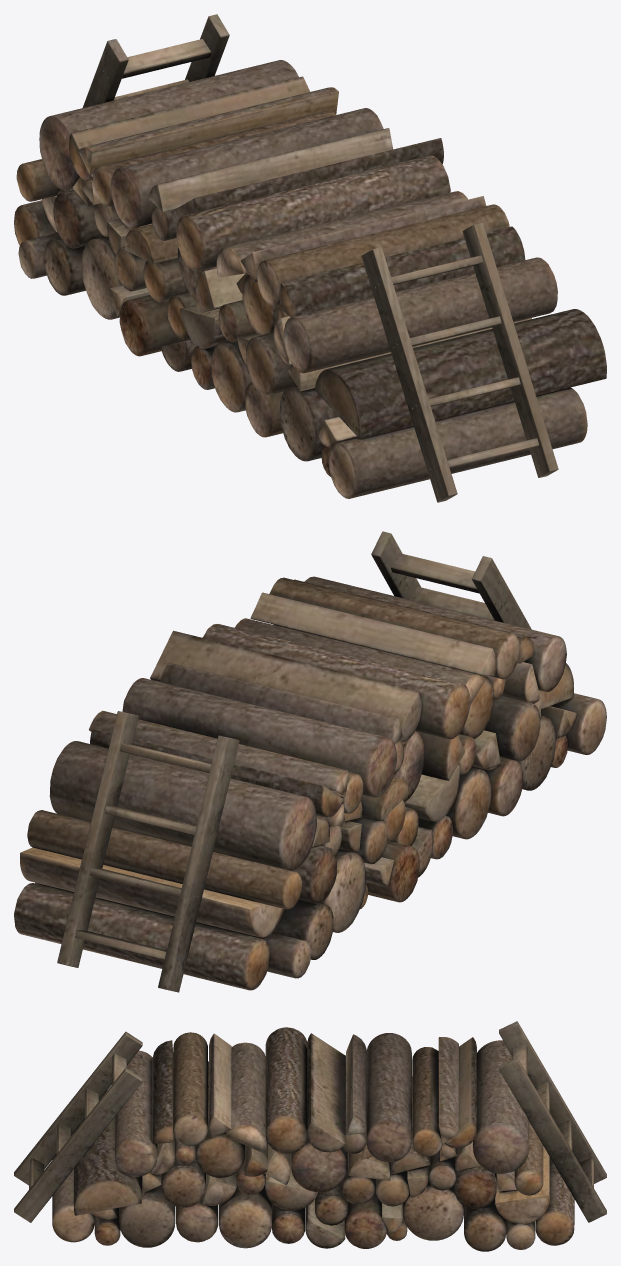
File: firewood.glb
3 views of the same model, one above another, from view 1: azimuth 30°, elevation 25°; view 2: azimuth 150°, elevation 25°; view 3: azimuth 270°, elevation 25° (orthographic). The views are drawn at different scales.
Parts seen in each view (by area): view 1: Object_3, Object_2, Object_5, Object_4; view 2: Object_2, Object_3, Object_4, Object_5; view 3: Object_2, Object_3, Object_4, Object_5.
Boxes of the visible parts, x1,y1,x2,y2 form: Object_3: (18, 76, 606, 498); Object_2: (14, 60, 557, 461); Object_5: (102, 70, 558, 502); Object_4: (82, 14, 443, 409); Object_2: (14, 576, 566, 990); Object_3: (20, 579, 606, 978); Object_4: (57, 630, 433, 992); Object_5: (105, 531, 531, 897); Object_2: (33, 1027, 574, 1248); Object_3: (52, 1032, 549, 1251); Object_4: (305, 1021, 606, 1248); Object_5: (14, 1031, 549, 1222).
Bounding box in the file's own units: 10.97 × 8.34 × 27.6.
1 material, 1 textured.
